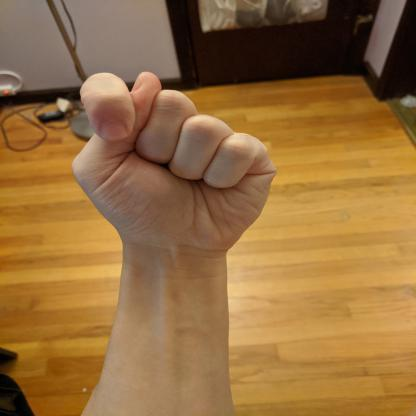T: (65, 66, 283, 262)
